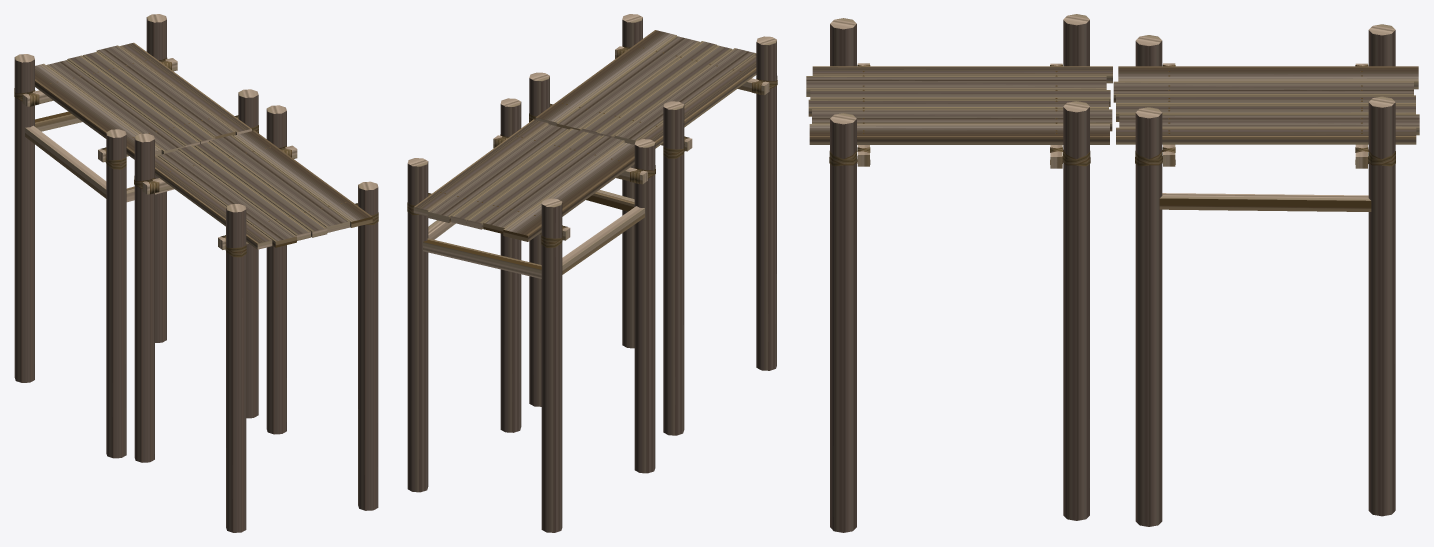
File: objects_un_dlc2_pier01_02.gltf
3 renders of one model, left to right at view 1: azimuth 30°, elevation 25°; view 2: azimuth 150°, elevation 25°; view 3: azimuth 270°, elevation 25°, orthographic. The views are drawn at different scales.
Parts seen in each view (by area): view 1: um_objects_un_dlc2_pier01_model_lod0Shape:objects_un_dlc2_pi; view 2: um_objects_un_dlc2_pier01_model_lod0Shape:objects_un_dlc2_pi; view 3: um_objects_un_dlc2_pier01_model_lod0Shape:objects_un_dlc2_pi.
Part boxes in pixels (bbox=[...]): um_objects_un_dlc2_pier01_model_lod0Shape:objects_un_dlc2_pi: bbox=[14, 14, 378, 532]; um_objects_un_dlc2_pier01_model_lod0Shape:objects_un_dlc2_pi: bbox=[407, 14, 777, 532]; um_objects_un_dlc2_pier01_model_lod0Shape:objects_un_dlc2_pi: bbox=[806, 14, 1419, 532].
Size of what is drawn, in the model's own units: 3.48 by 7.38 by 9.55.
1 material, 1 textured.
